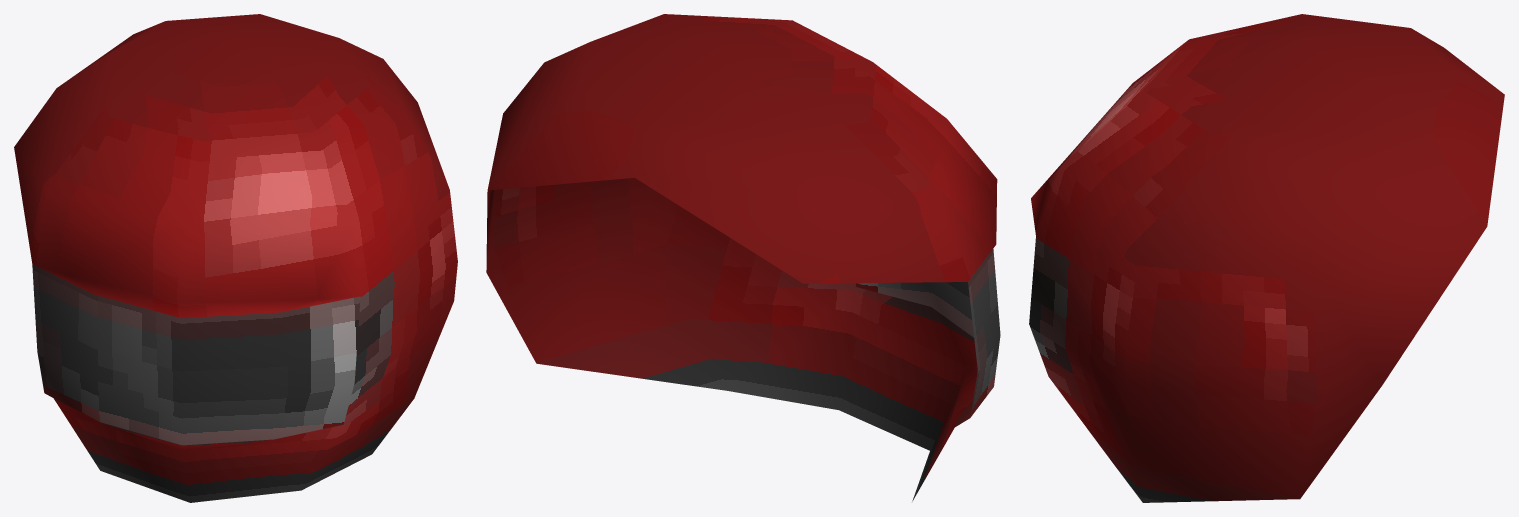
The model's file is fg_wig.dae.
3 renders of one model, left to right at view 1: azimuth 30°, elevation 25°; view 2: azimuth 150°, elevation 25°; view 3: azimuth 270°, elevation 25°, orthographic. The views are drawn at different scales.
Parts seen in each view (by area): view 1: fg_wig; view 2: fg_wig; view 3: fg_wig.
Boxes of the visible parts, <box> form: fg_wig: <box>14,14,457,502</box>; fg_wig: <box>486,14,1000,501</box>; fg_wig: <box>1029,14,1504,502</box>.
Bounding box in the file's own units: 15.02 × 13.59 × 13.52.
1 material, 1 textured.
